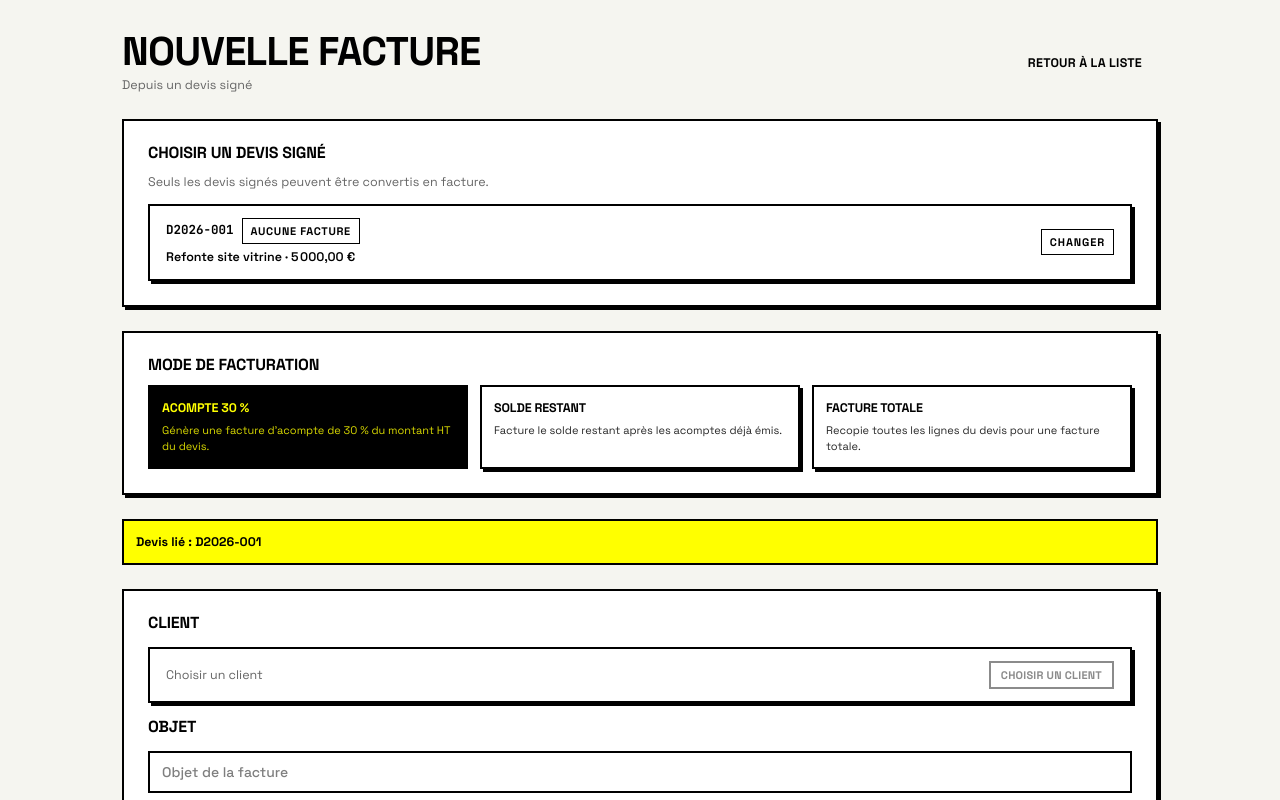
Test: NewFromQuote › ouvre la modal du picker et permet de sélectionner via une row
Click the button with test id "quote-picker-trigger". click: (200, 230)
box: x1=148 y1=204 x2=1132 y2=281
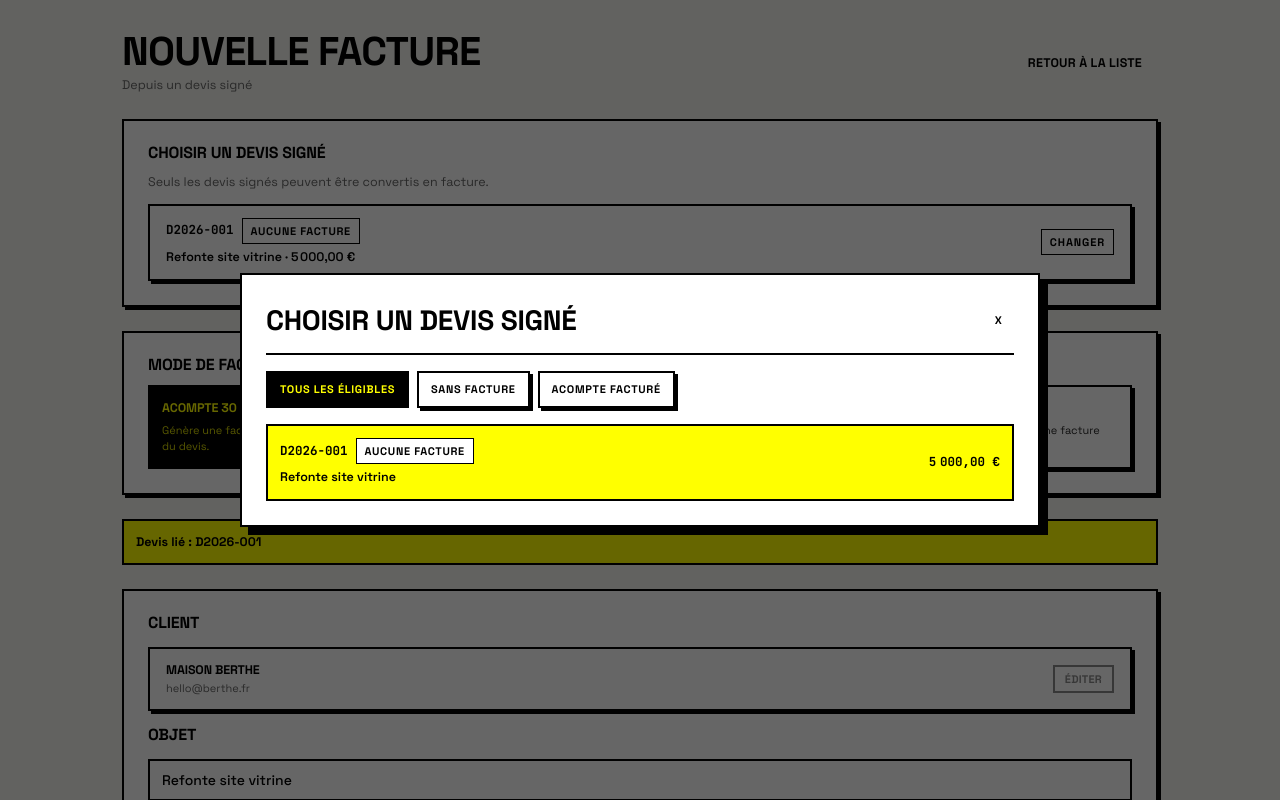
Now the dialog with test id "quote-picker-modal" is shown
Click the button "D2026-001 Aucune facture Refonte site vitrine 5 000,00 €". click: (314, 450)
box: x1=266 y1=424 x2=1014 y2=501
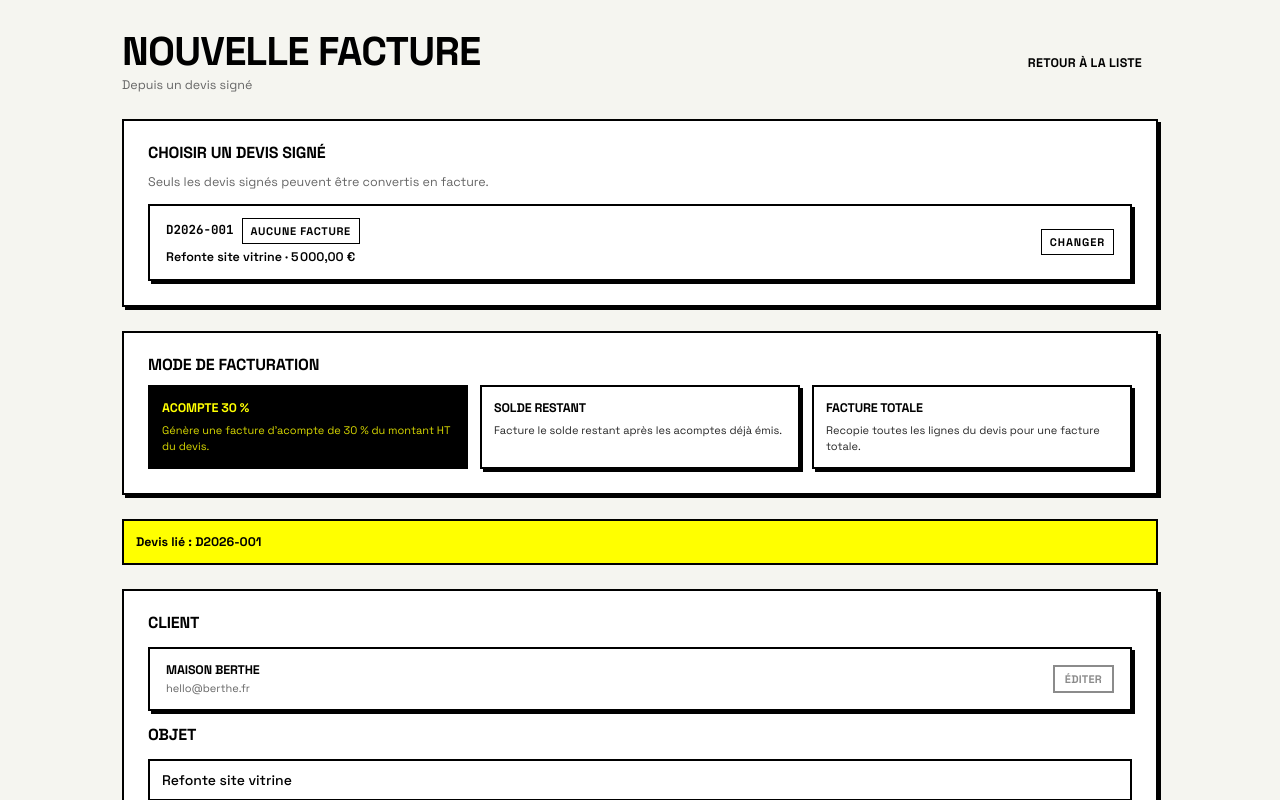
Now the dialog with test id "quote-picker-modal" is gone
